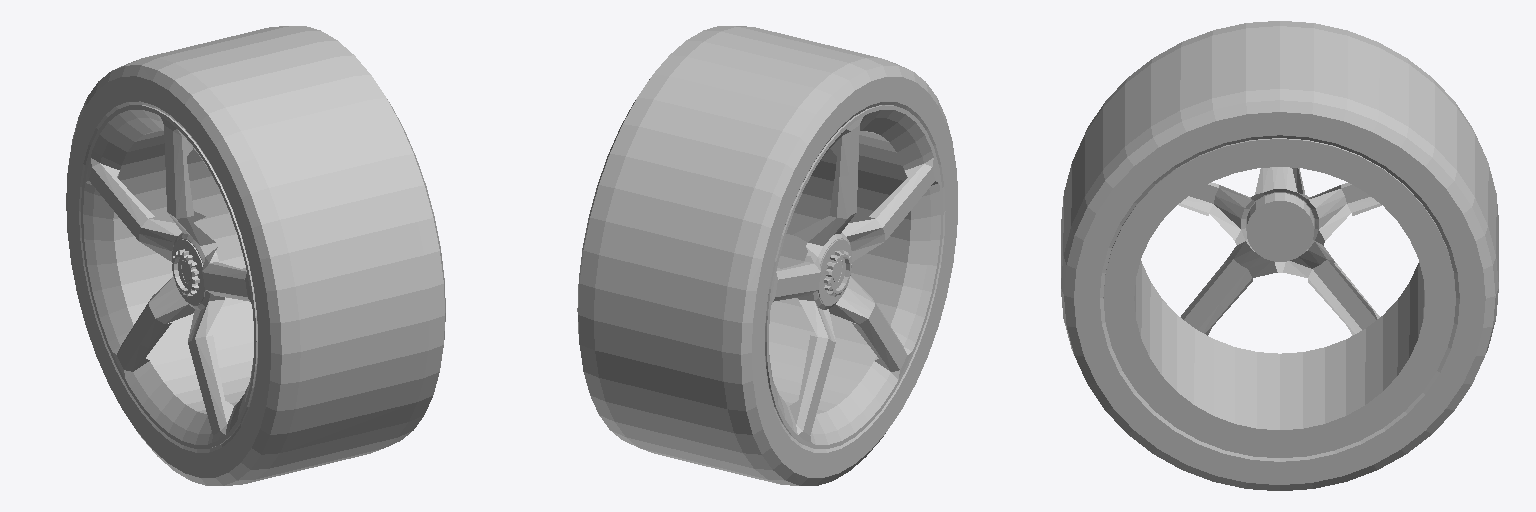
File: SV_tire_front_left.obj
The picture shows the model from 3 angles: view 1: azimuth 30°, elevation 25°; view 2: azimuth 150°, elevation 25°; view 3: azimuth 270°, elevation 25°; orthographic projection.
Parts seen in each view (by area): view 1: tire_front; view 2: tire_front; view 3: tire_front.
Boxes of the visible parts, x1,y1,x2,y2 form: tire_front: [66, 26, 445, 485]; tire_front: [577, 26, 957, 485]; tire_front: [1061, 21, 1498, 490].
Size of the model in its own units: 0.3064 by 0.6629 by 0.6634.